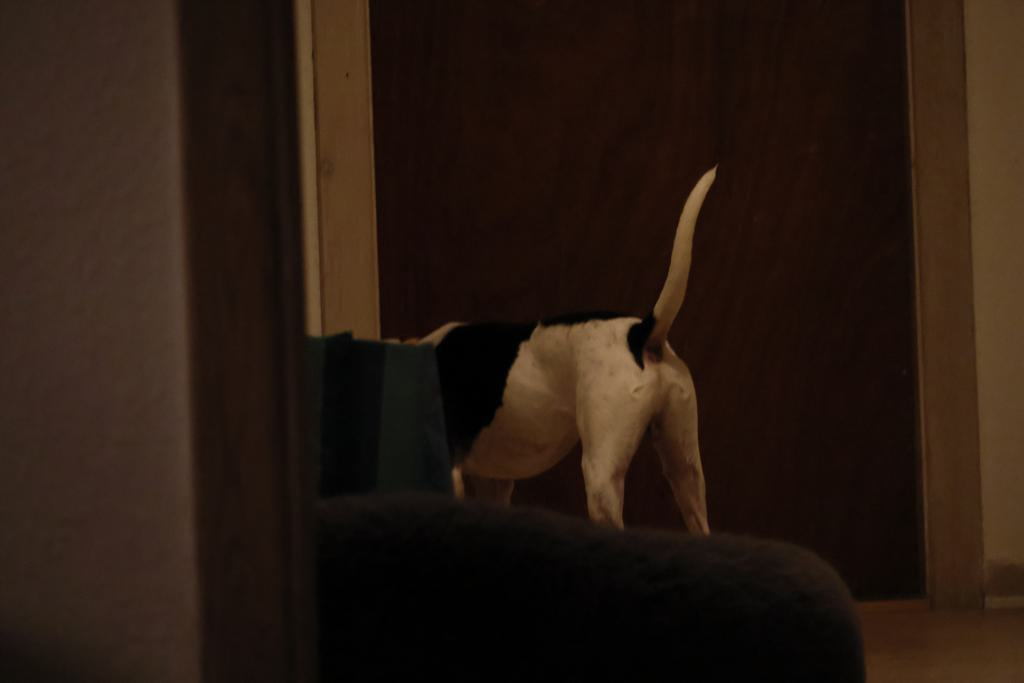Dog: (348, 154, 743, 535)
